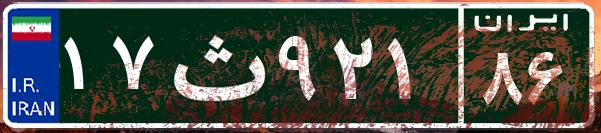1: (385, 28, 445, 110), (57, 26, 110, 107)
2: (330, 28, 385, 110)
6: (525, 38, 570, 115)
7: (110, 28, 158, 105)
8: (475, 38, 525, 113)
9: (273, 28, 330, 110)
ث: (158, 15, 273, 115)
